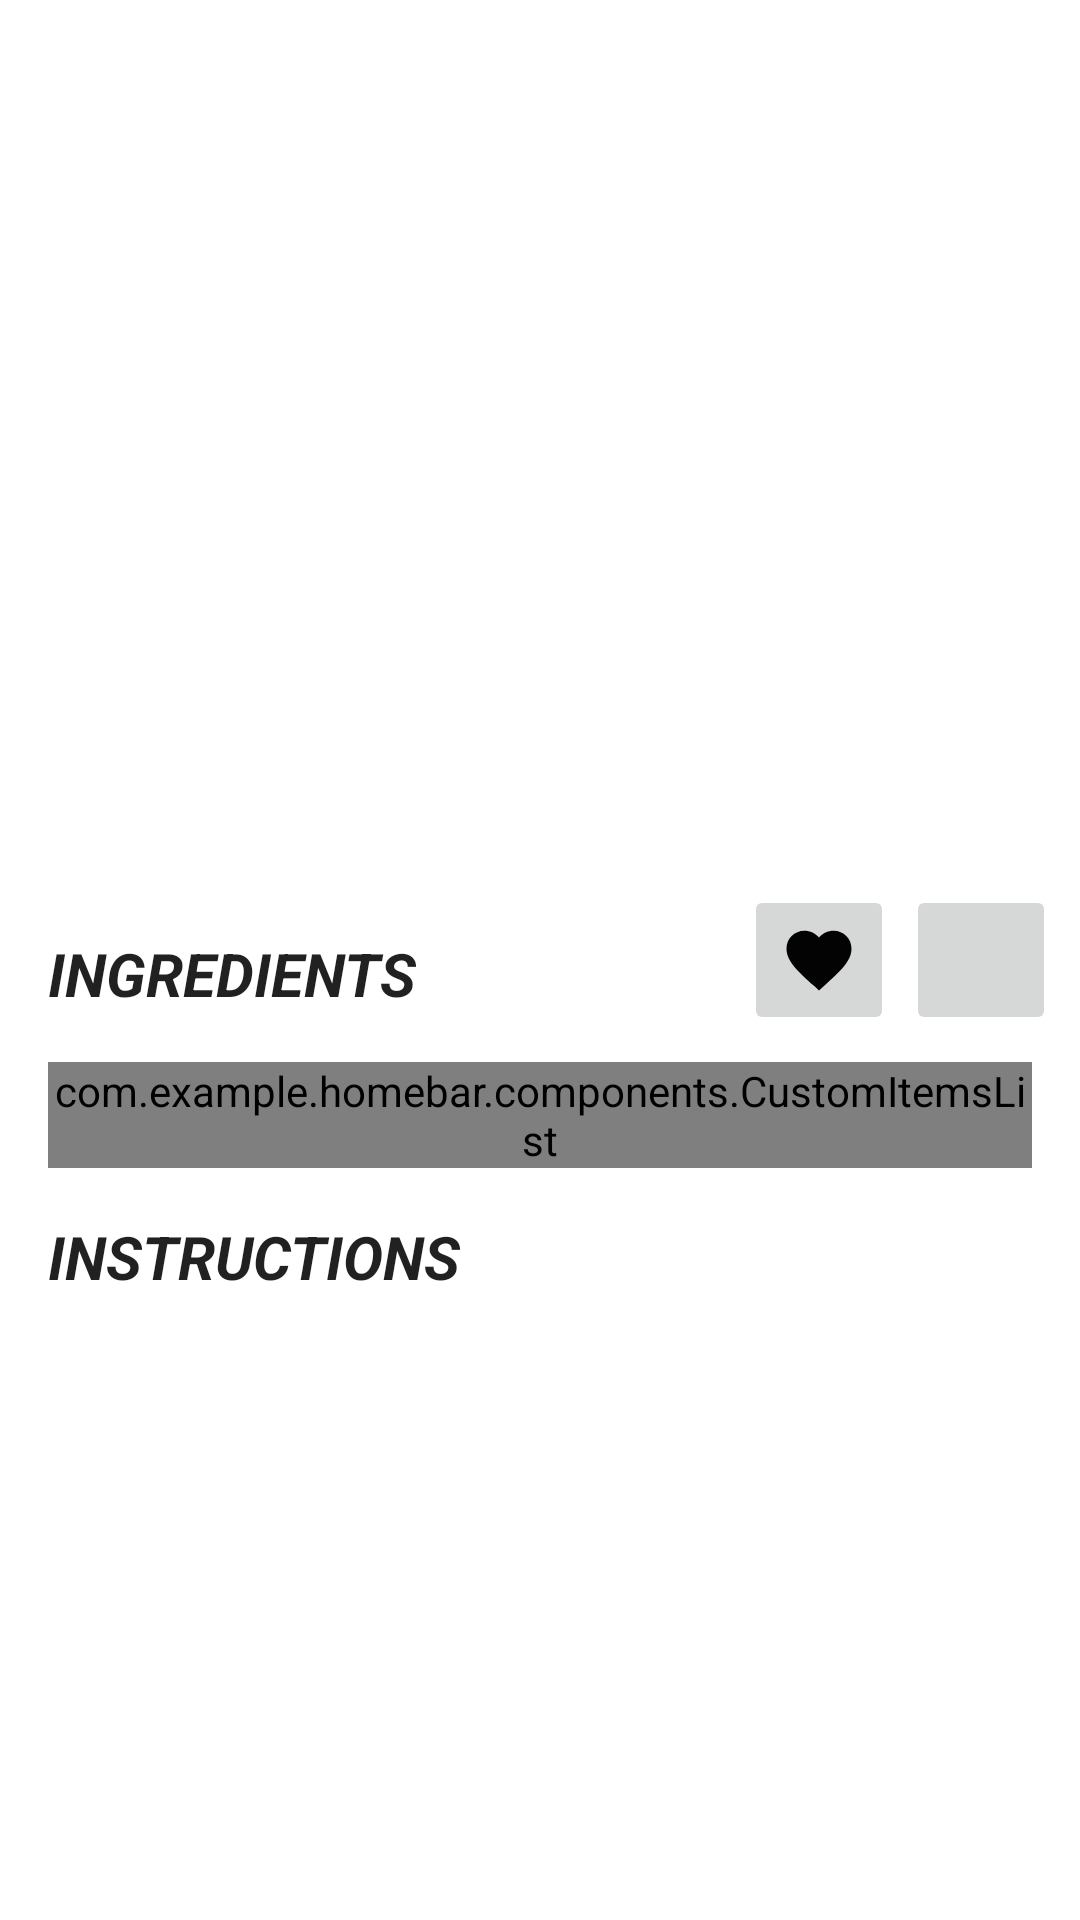

Icons on this 1080w x 1920h Android screen, each with its box as [x1, y1, x2, y2]:
favorite: [756, 903, 882, 1017]
